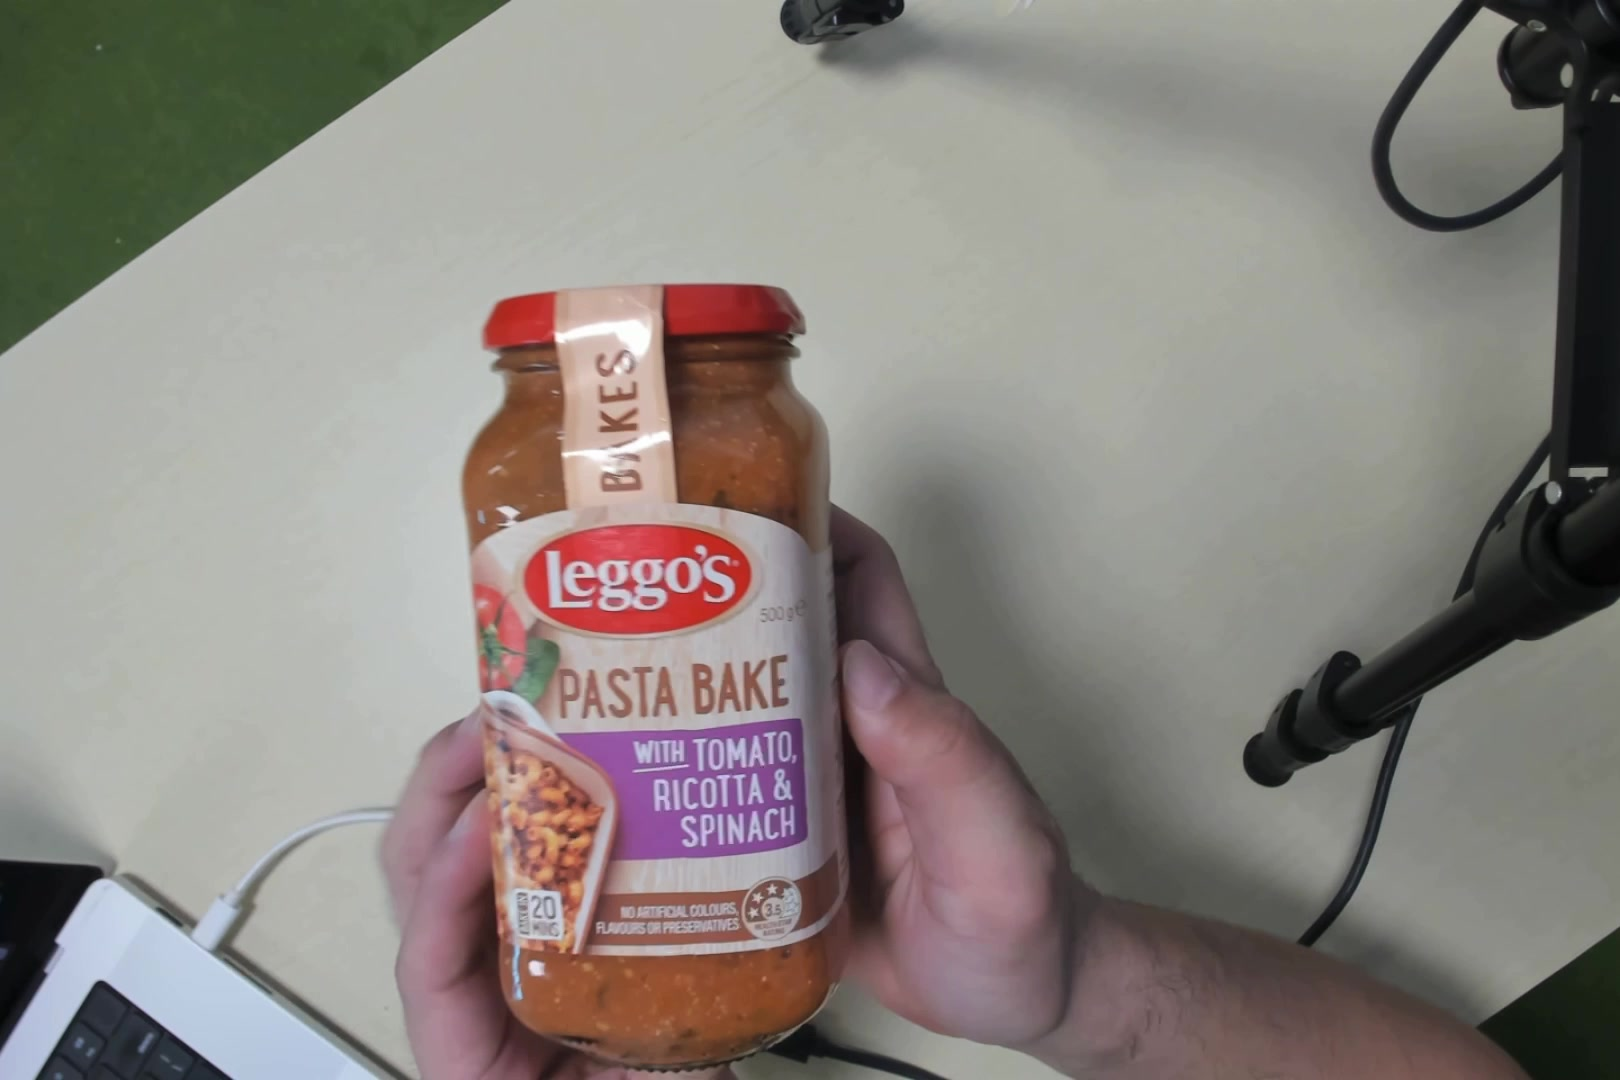Pasta_500-599g_Halal_NonHealthy: (499, 295, 834, 1015)
